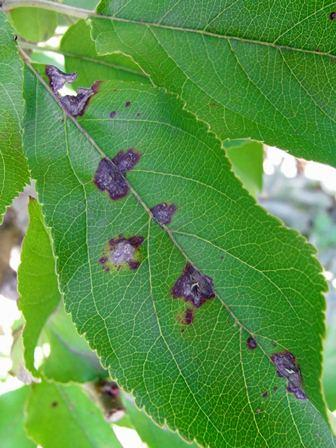Apple Scab Leaf: (23, 62, 336, 441)
